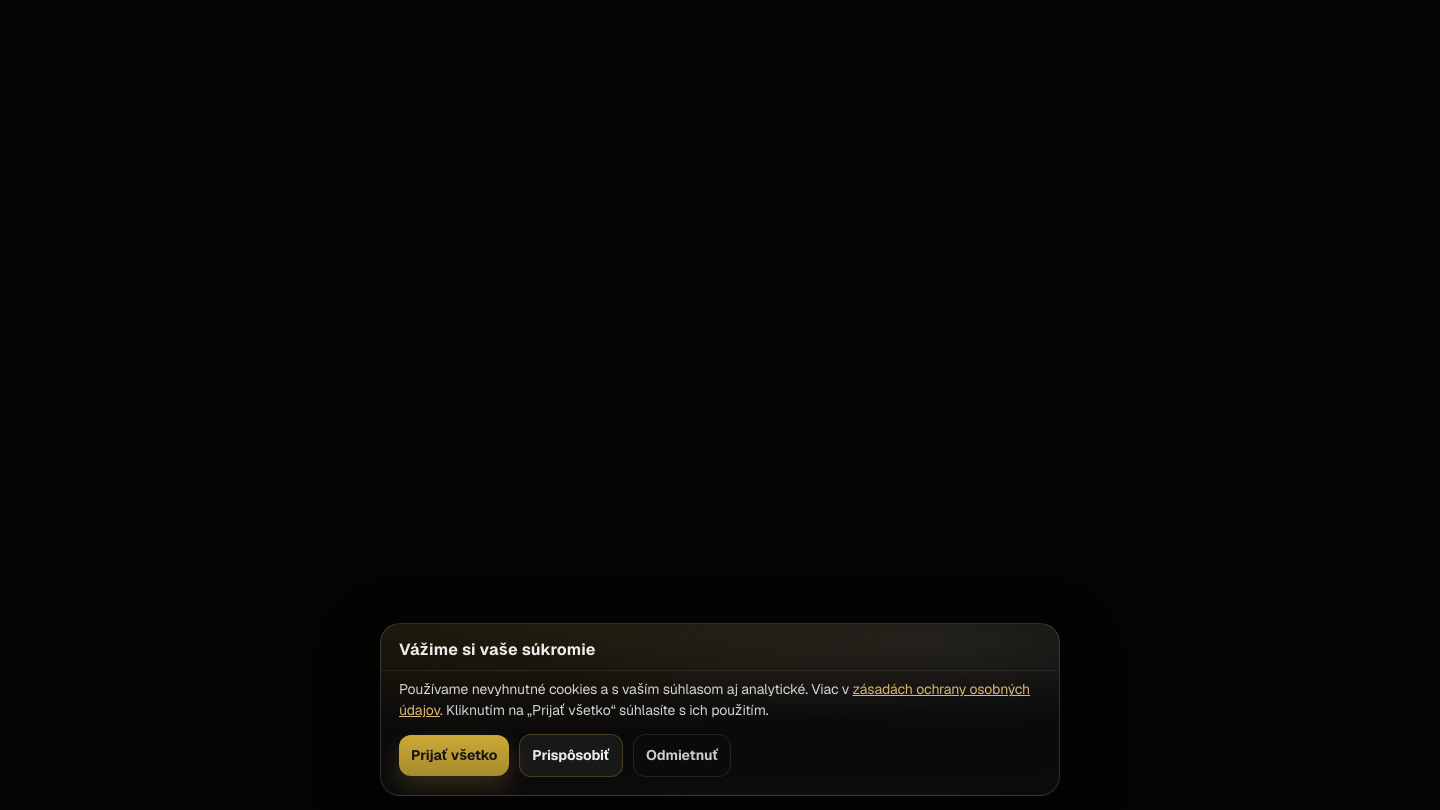
CookieConsent › shows only necessary and analytics consent options
This screenshot has width=1440, height=810.
Expected: the text "Vážime si vaše súkromie" is shown, [399, 639, 596, 660]
Step 1. Click the button "Prispôsobiť" → (571, 756), box [519, 734, 623, 777]
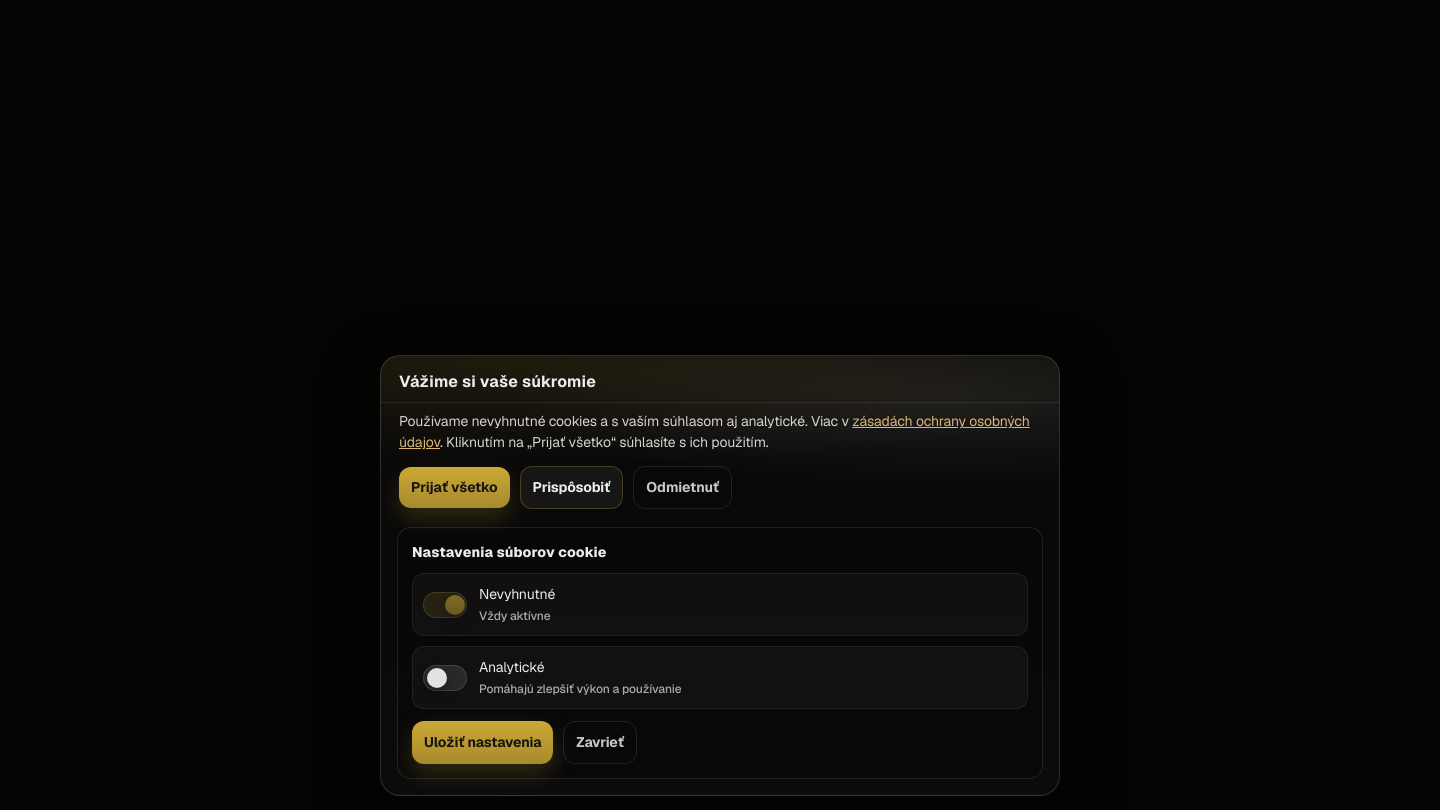
Expected: the text "Analytické" is shown, [479, 658, 544, 676]
